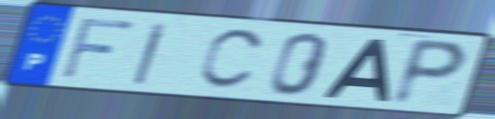0: (267, 30, 332, 98)
A: (319, 36, 393, 104)
C: (195, 28, 270, 93)
F: (57, 15, 140, 82)
I: (129, 20, 172, 87)
P: (387, 35, 472, 109)
